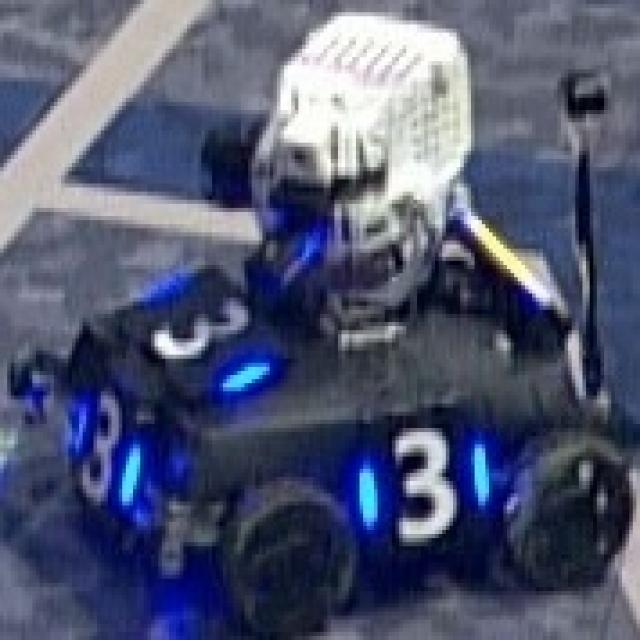B3: (131, 259, 279, 401), (358, 412, 498, 542), (54, 383, 151, 506)
